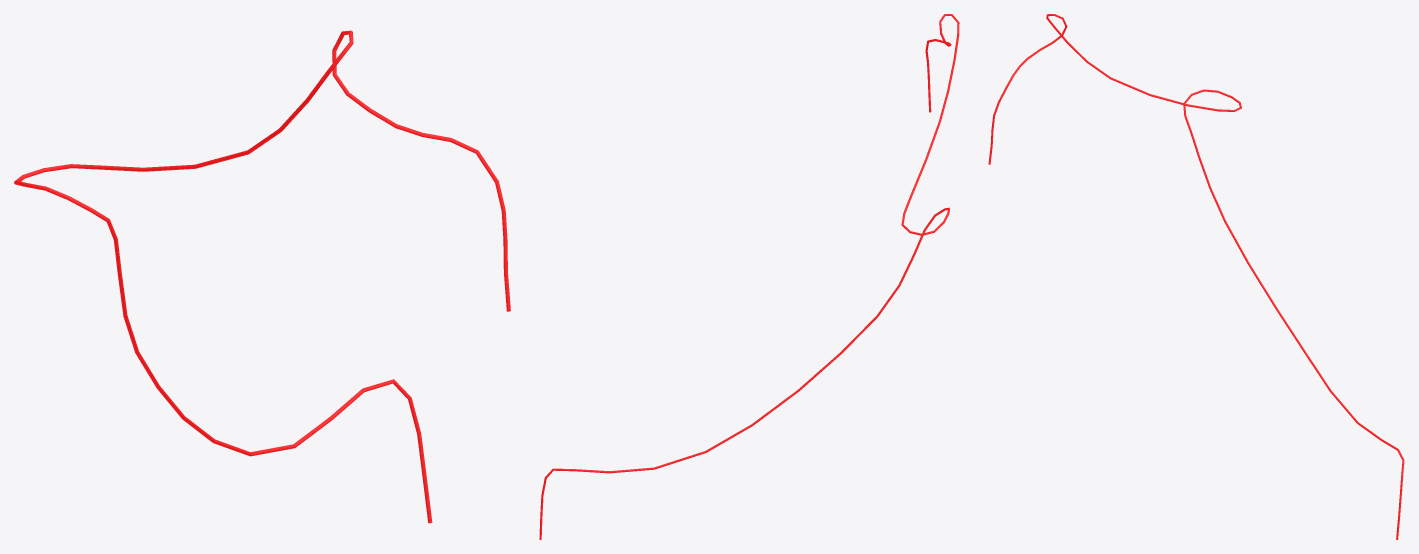
File: m_Rope03.fbx
3 renders of one model, left to right at view 1: azimuth 30°, elevation 25°; view 2: azimuth 150°, elevation 25°; view 3: azimuth 270°, elevation 25°, orthographic. The views are drawn at different scales.
Parts seen in each view (by area): view 1: m_Rope03; view 2: m_Rope03; view 3: m_Rope03.
Part boxes in pixels (x1,y1,x2,y2): m_Rope03: [14, 30, 510, 523]; m_Rope03: [539, 14, 959, 539]; m_Rope03: [988, 14, 1404, 539].
Size of the model in its own units: 956 by 1316 by 1173.
